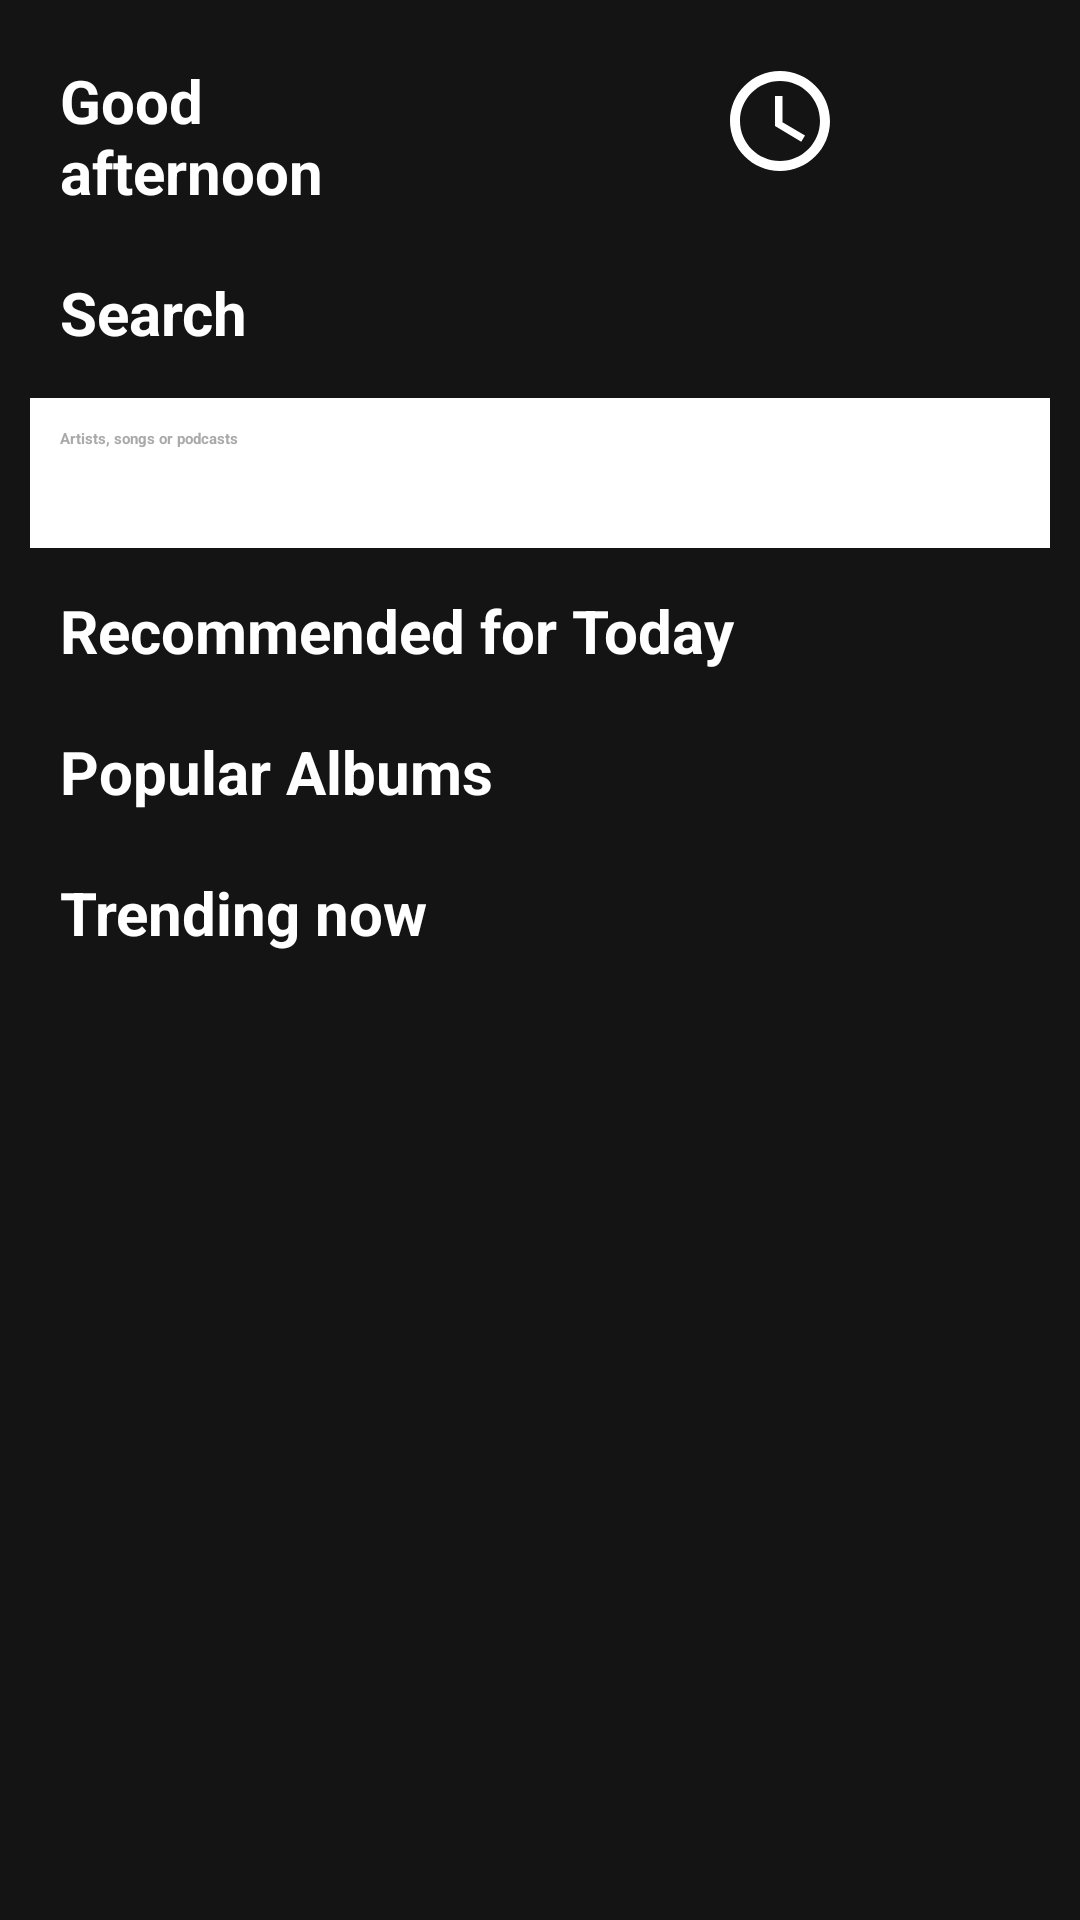

Icon bounding boxes for this 1080 x 1920 phone screenshot, format (x1, y1, x2, y2):
recent: (730, 71, 830, 171)
